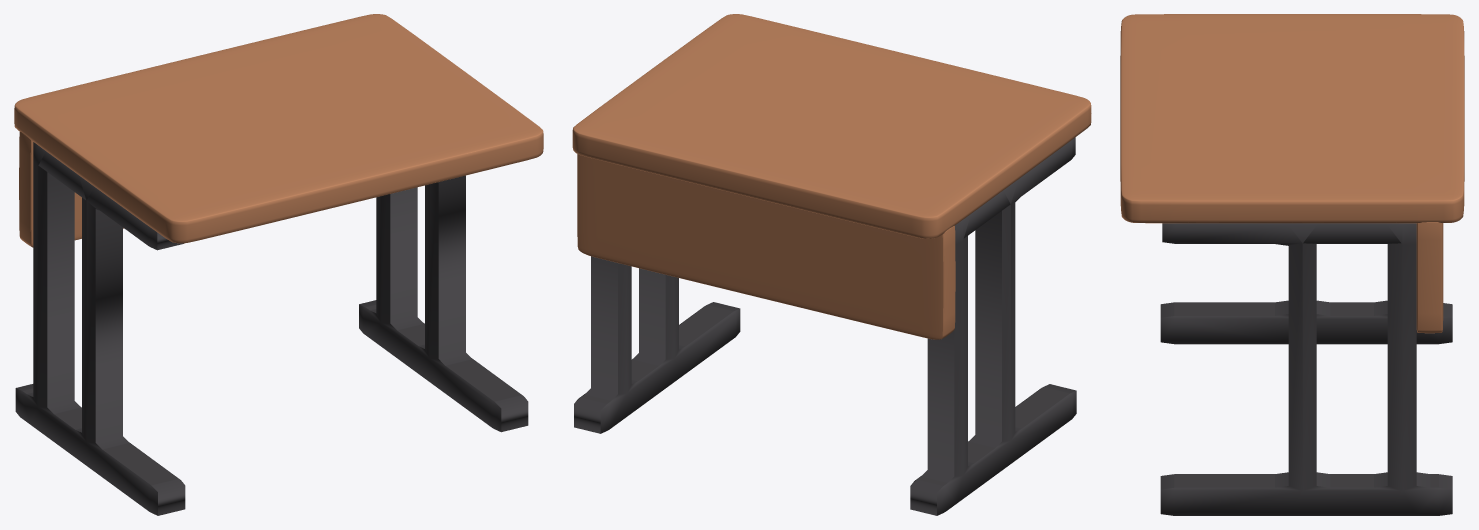
The model's file is school_desk.glb.
3 views of the same model, side by side, from view 1: azimuth 30°, elevation 25°; view 2: azimuth 150°, elevation 25°; view 3: azimuth 270°, elevation 25° (orthographic). The views are drawn at different scales.
Parts seen in each view (by area): view 1: school_desk; view 2: school_desk; view 3: school_desk.
Part boxes in pixels (x1=…): school_desk: x1=14, y1=14, x2=543, y2=515; school_desk: x1=572, y1=14, x2=1091, y2=515; school_desk: x1=1120, y1=14, x2=1464, y2=515.
Bounding box in the file's own units: 0.7132 × 0.5606 × 0.5524.
